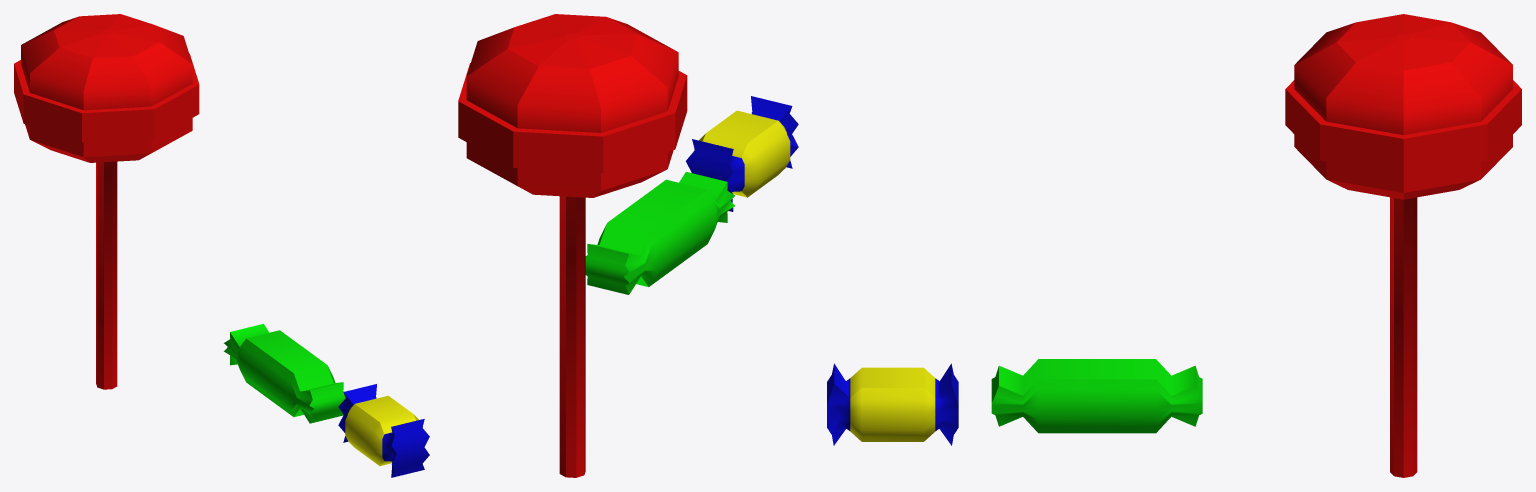
File: candies.fbx
3 renders of one model, left to right at view 1: azimuth 30°, elevation 25°; view 2: azimuth 150°, elevation 25°; view 3: azimuth 270°, elevation 25°, orthographic. The views are drawn at different scales.
Parts seen in each view (by area): view 1: lollipop, candy, Bubble_Gum; view 2: lollipop, candy, Bubble_Gum; view 3: lollipop, candy, Bubble_Gum.
Boxes of the visible parts, bbox=[...] form: lollipop: bbox=[14, 14, 199, 389]; candy: bbox=[224, 323, 345, 423]; Bubble_Gum: bbox=[338, 384, 429, 477]; lollipop: bbox=[458, 14, 687, 477]; candy: bbox=[585, 172, 734, 294]; Bubble_Gum: bbox=[686, 96, 798, 211]; lollipop: bbox=[1285, 14, 1521, 477]; candy: bbox=[991, 359, 1202, 433]; Bubble_Gum: bbox=[827, 363, 958, 445].
Size of the model in its own units: 3.51 by 6.61 by 9.57.
